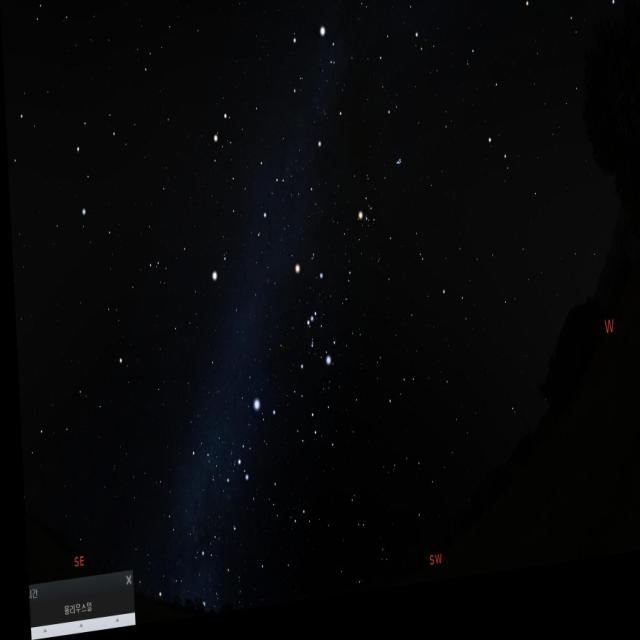canis_major: (223, 396, 277, 498)
canis_minor: (202, 256, 231, 295)
gemini: (208, 103, 286, 243)
orion: (288, 261, 332, 391)
pleiades: (391, 165, 404, 186)
taurus: (345, 155, 414, 263)
